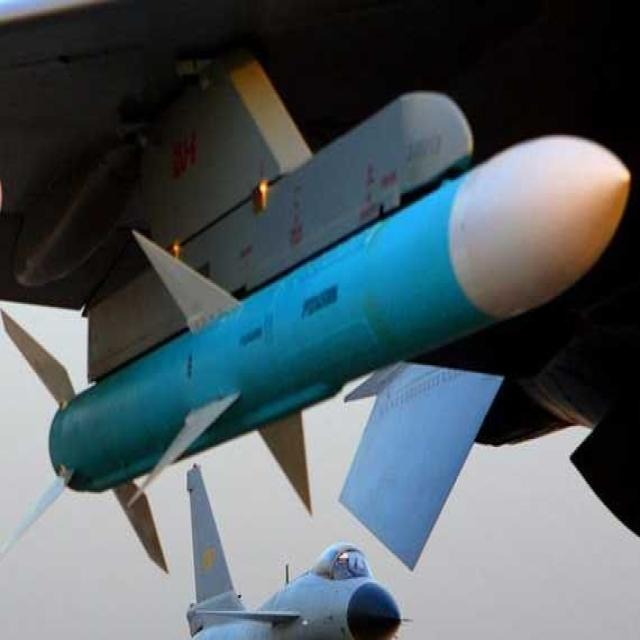missile: (1, 130, 631, 579)
